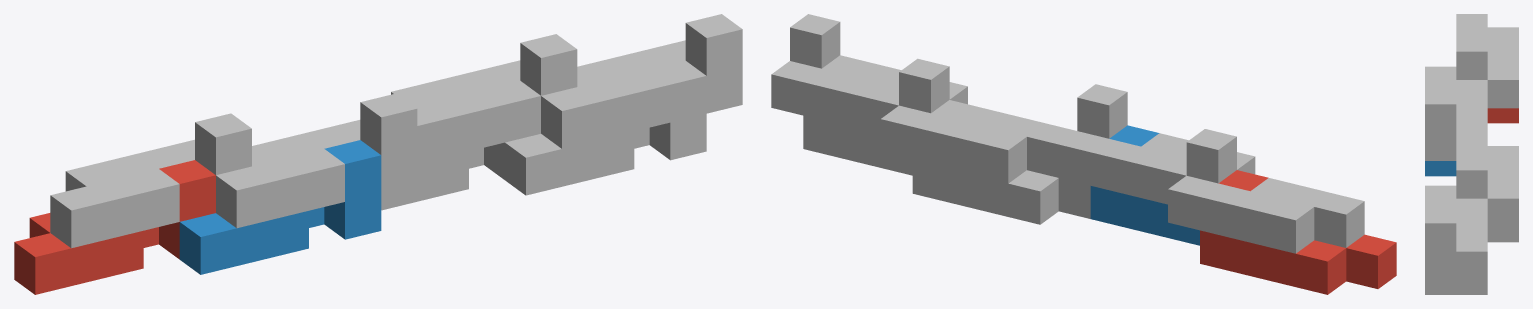
File: tiling.obj
3 views of the same model, side by side, from view 1: azimuth 30°, elevation 25°; view 2: azimuth 150°, elevation 25°; view 3: azimuth 270°, elevation 25° (orthographic). The views are drawn at different scales.
Parts seen in each view (by area): view 1: copy_1_domain_8, copy_1_domain_4, copy_1_domain_3, copy_1_domain_7, copy_1_domain_2, copy_1_domain_6, copy_1_domain_1, copy_1_domain_5; view 2: copy_1_domain_3, copy_1_domain_7, copy_1_domain_4, copy_1_domain_8, copy_1_domain_1, copy_1_domain_5, copy_1_domain_6, copy_1_domain_2; view 3: copy_1_domain_8, copy_1_domain_7, copy_1_domain_3, copy_1_domain_4, copy_1_domain_6, copy_1_domain_1, copy_1_domain_2, copy_1_domain_5.
Part boxes in pixels (x1=…): copy_1_domain_8: x1=541, y1=14, x2=742, y2=148; copy_1_domain_4: x1=216, y1=93, x2=417, y2=228; copy_1_domain_3: x1=50, y1=113, x2=251, y2=248; copy_1_domain_7: x1=391, y1=34, x2=577, y2=163; copy_1_domain_2: x1=179, y1=140, x2=381, y2=274; copy_1_domain_6: x1=505, y1=60, x2=706, y2=195; copy_1_domain_1: x1=14, y1=160, x2=215, y2=294; copy_1_domain_5: x1=381, y1=80, x2=540, y2=210; copy_1_domain_3: x1=1168, y1=129, x2=1364, y2=253; copy_1_domain_7: x1=880, y1=58, x2=1076, y2=183; copy_1_domain_4: x1=1058, y1=84, x2=1255, y2=204; copy_1_domain_8: x1=771, y1=14, x2=967, y2=134; copy_1_domain_1: x1=1200, y1=170, x2=1396, y2=294; copy_1_domain_5: x1=912, y1=100, x2=1090, y2=224; copy_1_domain_6: x1=803, y1=55, x2=912, y2=175; copy_1_domain_2: x1=1090, y1=125, x2=1199, y2=245; copy_1_domain_8: x1=1425, y1=185, x2=1487, y2=279; copy_1_domain_7: x1=1456, y1=132, x2=1518, y2=226; copy_1_domain_3: x1=1456, y1=14, x2=1518, y2=108; copy_1_domain_4: x1=1425, y1=66, x2=1487, y2=160; copy_1_domain_6: x1=1425, y1=280, x2=1487, y2=294; copy_1_domain_1: x1=1487, y1=108, x2=1518, y2=123; copy_1_domain_2: x1=1425, y1=161, x2=1456, y2=176; copy_1_domain_5: x1=1487, y1=227, x2=1518, y2=242.
Bounding box in the file's own units: 19 × 3 × 3.
